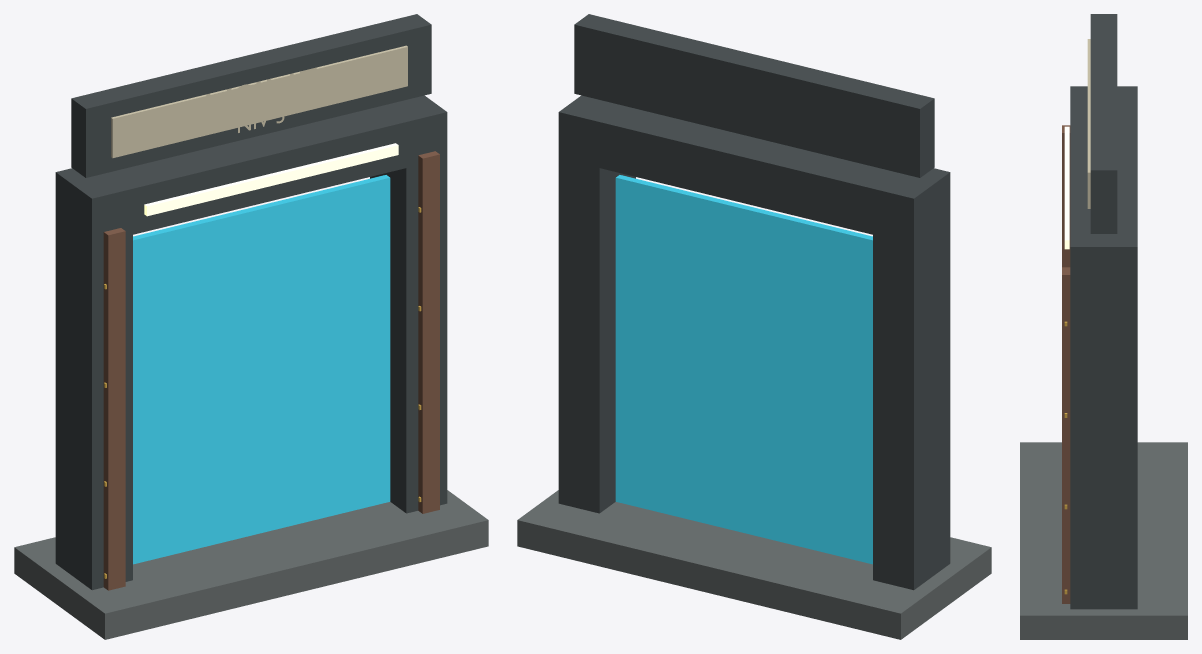
File: Refuge_Portal_01_Usine_Niv5.fbx
3 renders of one model, left to right at view 1: azimuth 30°, elevation 25°; view 2: azimuth 150°, elevation 25°; view 3: azimuth 270°, elevation 25°, orthographic. The views are drawn at different scales.
Visible parts, largest first — view 1: Refuge_Portal_01_Usine_Niv5_portal, Refuge_Portal_01_Usine_Niv5_iron, Refuge_Portal_01_Usine_Niv5_concrete_dark, Refuge_Portal_01_Usine_Niv5_rust, Refuge_Portal_01_Usine_Niv5_paint, Refuge_Portal_01_Usine_Niv5_glow, Refuge_Portal_01_Usine_Niv5_label; view 2: Refuge_Portal_01_Usine_Niv5_iron, Refuge_Portal_01_Usine_Niv5_portal, Refuge_Portal_01_Usine_Niv5_concrete_dark; view 3: Refuge_Portal_01_Usine_Niv5_iron, Refuge_Portal_01_Usine_Niv5_concrete_dark, Refuge_Portal_01_Usine_Niv5_rust, Refuge_Portal_01_Usine_Niv5_glow, Refuge_Portal_01_Usine_Niv5_paint.
Boxes of the visible parts, <box> form: Refuge_Portal_01_Usine_Niv5_portal: <box>133,175,390,564</box>; Refuge_Portal_01_Usine_Niv5_iron: <box>55,14,447,590</box>; Refuge_Portal_01_Usine_Niv5_concrete_dark: <box>14,490,488,639</box>; Refuge_Portal_01_Usine_Niv5_rust: <box>103,151,439,590</box>; Refuge_Portal_01_Usine_Niv5_paint: <box>111,45,407,158</box>; Refuge_Portal_01_Usine_Niv5_glow: <box>144,143,398,216</box>; Refuge_Portal_01_Usine_Niv5_label: <box>206,67,316,122</box>; Refuge_Portal_01_Usine_Niv5_iron: <box>558,14,950,590</box>; Refuge_Portal_01_Usine_Niv5_portal: <box>615,175,872,564</box>; Refuge_Portal_01_Usine_Niv5_concrete_dark: <box>517,490,991,639</box>; Refuge_Portal_01_Usine_Niv5_iron: <box>1070,14,1137,609</box>; Refuge_Portal_01_Usine_Niv5_concrete_dark: <box>1020,442,1187,639</box>; Refuge_Portal_01_Usine_Niv5_rust: <box>1062,125,1070,603</box>; Refuge_Portal_01_Usine_Niv5_glow: <box>1064,126,1069,249</box>; Refuge_Portal_01_Usine_Niv5_paint: <box>1087,39,1090,208</box>.
Bounding box in the file's own units: 12.2 × 15.15 × 5.
